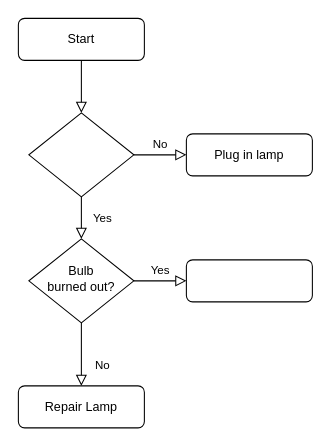
Some shapes in this 331 by 446 pixel diagram are drawn without their labels. Each missing label, with the centre of its shape:
Random Person Select: [81,154]
Replace Bulb: [248,280]
